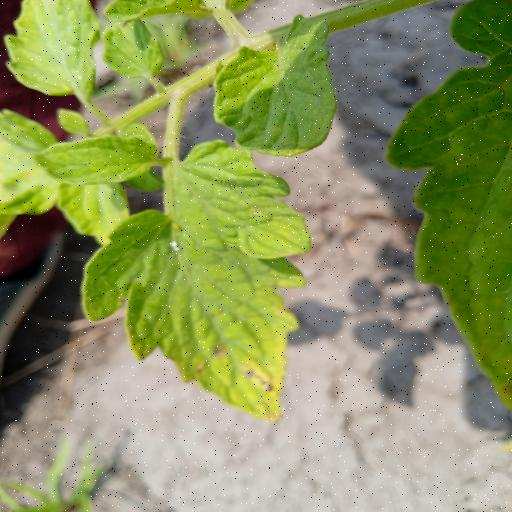Tomato_Brown_Spots: (79, 136, 311, 432)
